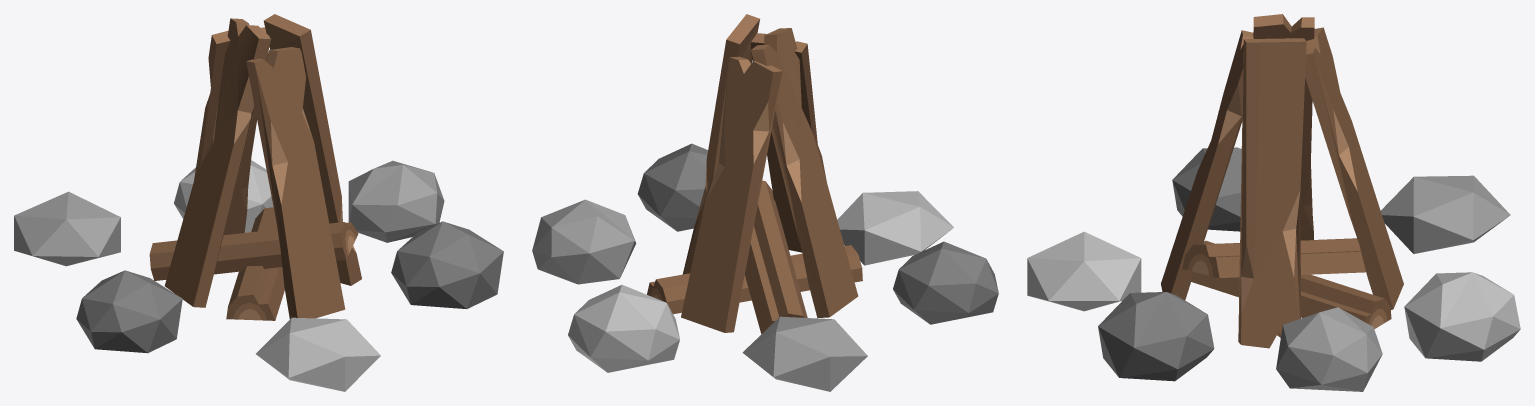
File: bonfire_9.fbx
3 renders of one model, left to right at view 1: azimuth 30°, elevation 25°; view 2: azimuth 150°, elevation 25°; view 3: azimuth 270°, elevation 25°, orthographic. The views are drawn at different scales.
Parts seen in each view (by area): view 1: bonfire_9; view 2: bonfire_9; view 3: bonfire_9.
Boxes of the visible parts, box(x1,y1,x2,y2) form: bonfire_9: box(14, 14, 503, 391); bonfire_9: box(532, 14, 998, 391); bonfire_9: box(1027, 14, 1520, 391).
Size of the model in its own units: 102 by 65.92 by 101.
1 material, 1 textured.
